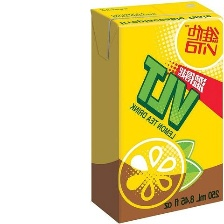carton: (83, 0, 224, 224)
